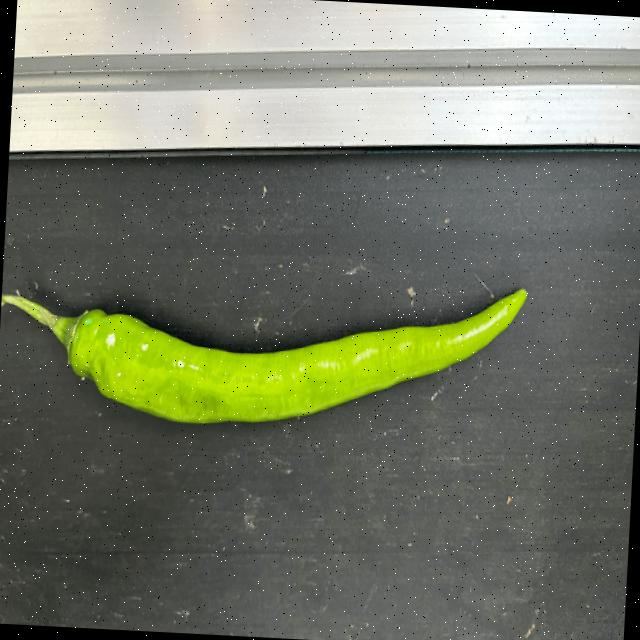chili: (63, 285, 531, 425)
